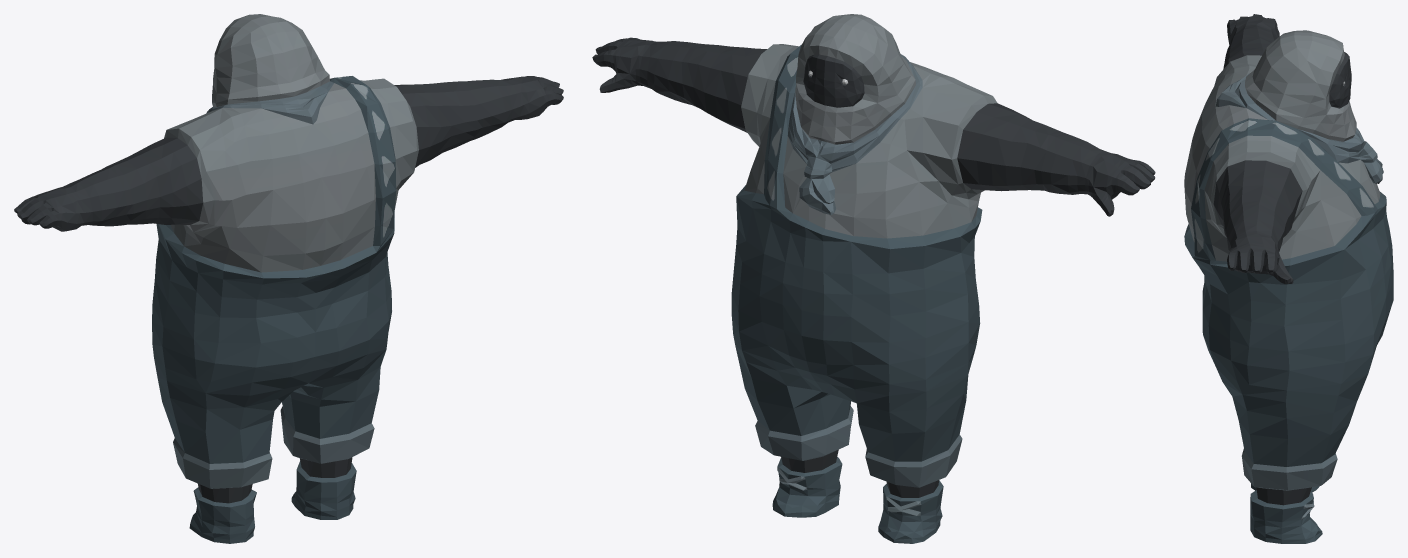
Rendered from CharSkyNPC_Body_AP10ClassClown.glb.
The picture shows the model from 3 angles, left to right: view 1: azimuth 30°, elevation 25°; view 2: azimuth 150°, elevation 25°; view 3: azimuth 270°, elevation 25°; orthographic projection. The views are drawn at different scales.
Visible parts, largest first — view 1: CharSkyNPC_Body_AP10ClassClown; view 2: CharSkyNPC_Body_AP10ClassClown; view 3: CharSkyNPC_Body_AP10ClassClown.
Part boxes in pixels (<box>): CharSkyNPC_Body_AP10ClassClown: <box>14,14,563,543</box>; CharSkyNPC_Body_AP10ClassClown: <box>592,14,1155,543</box>; CharSkyNPC_Body_AP10ClassClown: <box>1184,14,1393,543</box>.
Size of the model in its own units: 18.11 by 15.7 by 6.29.
1 material, 1 textured.
